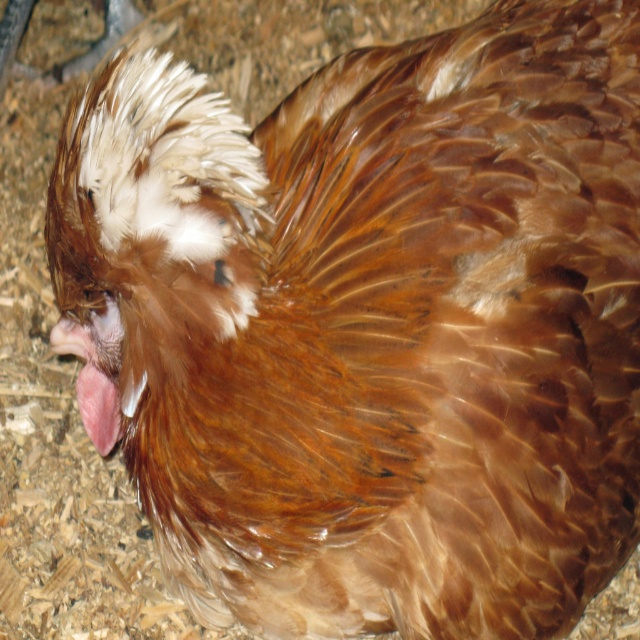Chicken: (44, 0, 640, 640)
